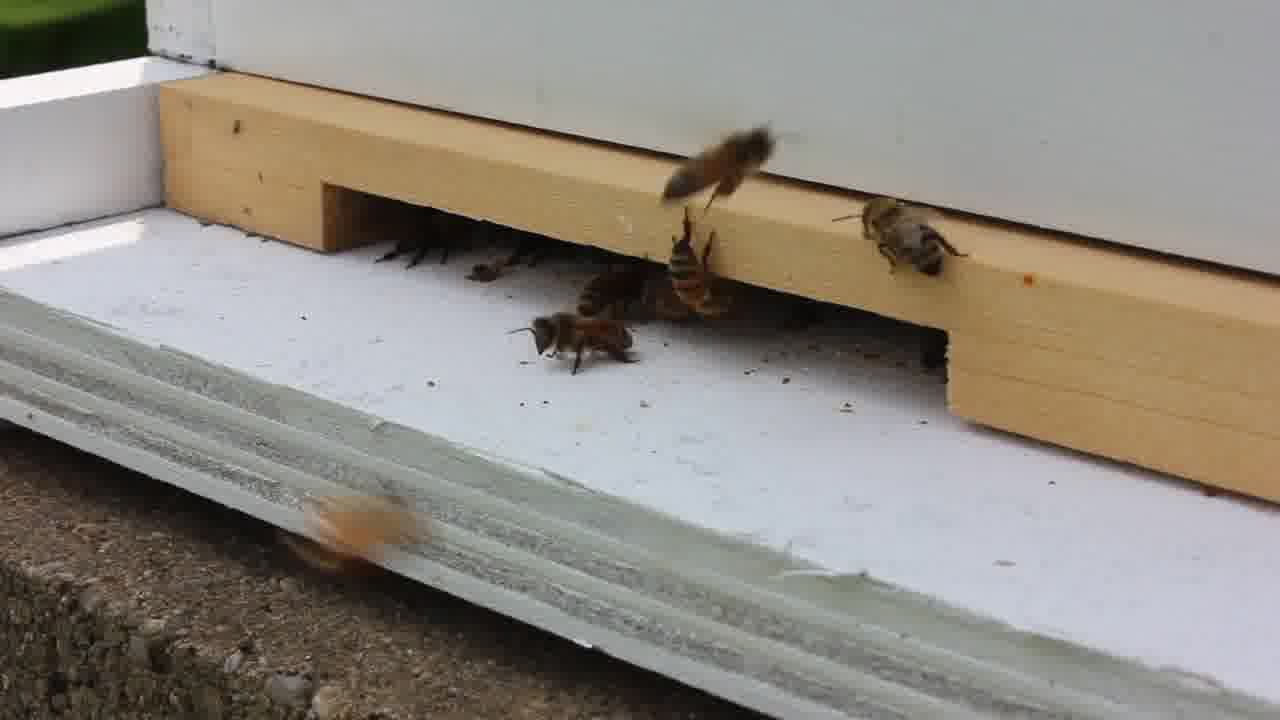pollen: (663, 129, 780, 216)
